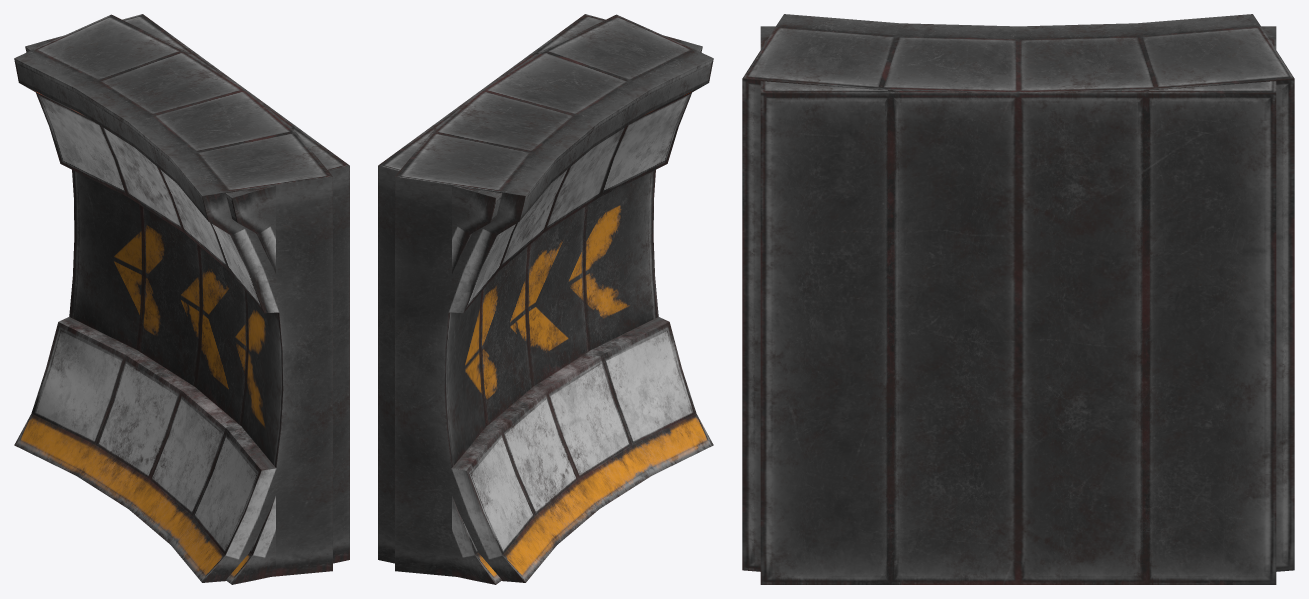
Rendered from Barriers.fbx.
3 views of the same model, side by side, from view 1: azimuth 30°, elevation 25°; view 2: azimuth 150°, elevation 25°; view 3: azimuth 270°, elevation 25° (orthographic). The views are drawn at different scales.
Parts seen in each view (by area): view 1: Barrier_Curved, Barrier_Straight; view 2: Barrier_Curved, Barrier_Straight; view 3: Barrier_Straight, Barrier_Curved.
Boxes of the visible parts, box(x1,y1,x2,y2) form: Barrier_Curved: box(14, 14, 332, 582); Barrier_Straight: box(25, 14, 349, 584); Barrier_Curved: box(395, 14, 713, 582); Barrier_Straight: box(378, 14, 702, 584); Barrier_Straight: box(760, 26, 1276, 584); Barrier_Curved: box(742, 14, 1294, 571).
Bounding box in the file's own units: 1541 × 4205 × 4283.
